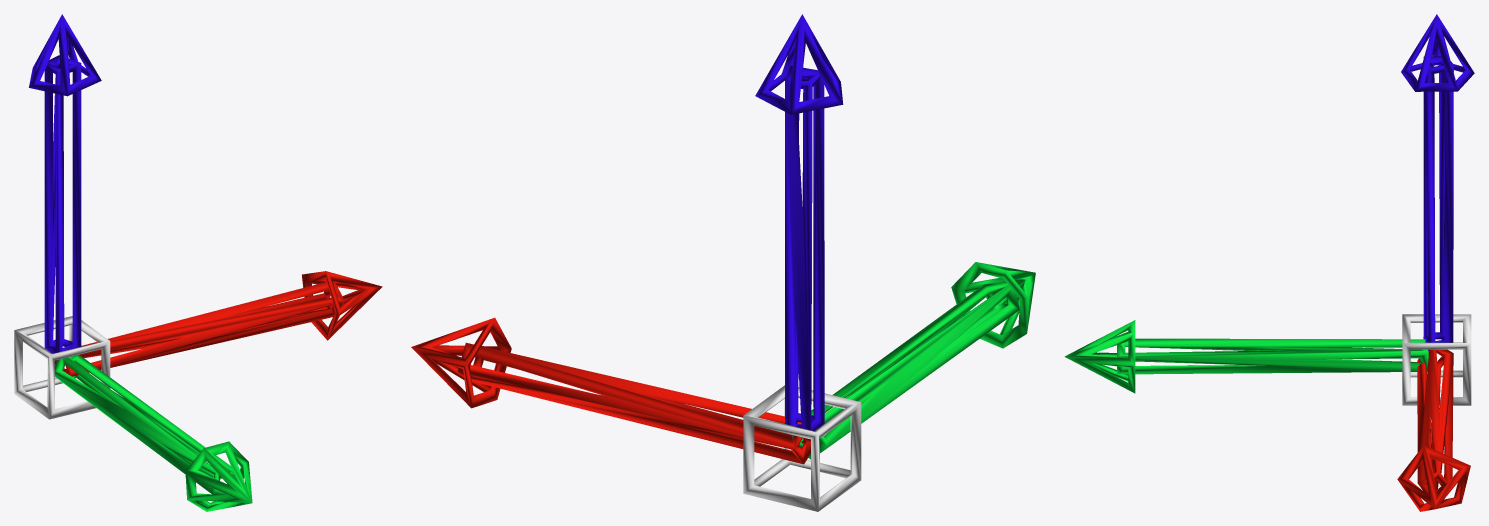
Rendered from transform_gizmo.glb.
The picture shows the model from 3 angles, left to right: view 1: azimuth 30°, elevation 25°; view 2: azimuth 150°, elevation 25°; view 3: azimuth 270°, elevation 25°; orthographic projection. The views are drawn at different scales.
Parts seen in each view (by area): view 1: z.002; view 2: z.002; view 3: z.002.
Boxes of the visible parts, x1,y1,x2,y2 form: z.002: (14, 14, 382, 511); z.002: (411, 14, 1035, 511); z.002: (1064, 14, 1474, 511).
Size of the model in its own units: 1.34 by 1.4 by 1.38.
